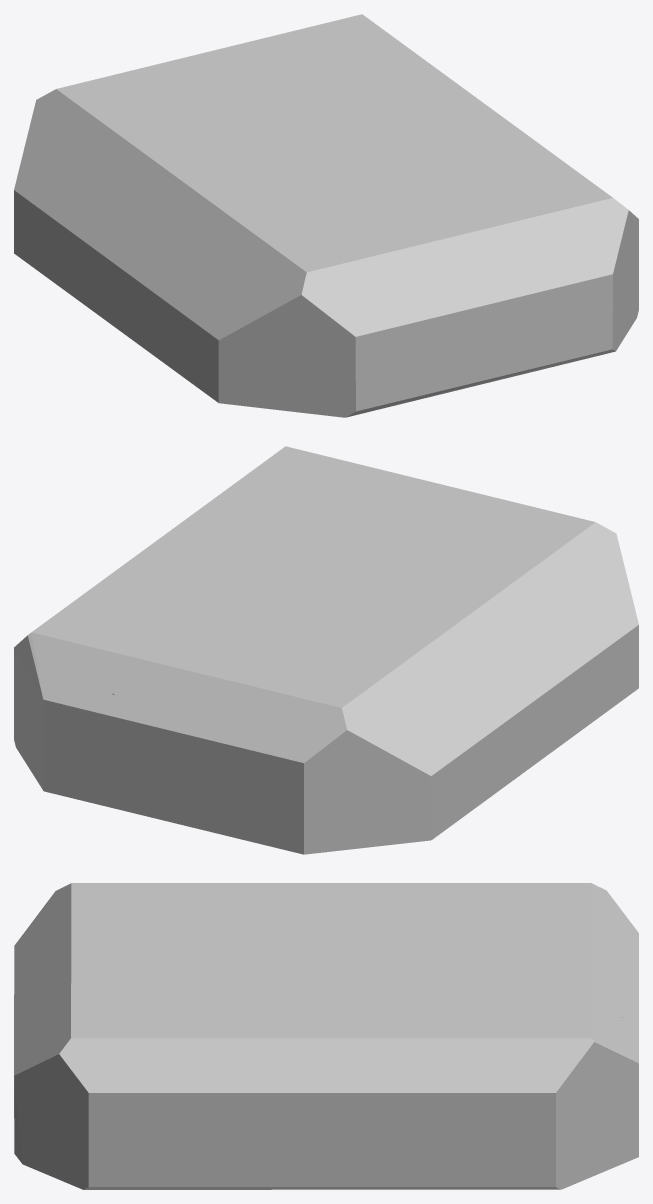
Rendered from SM_Cobble_A.fbx.
3 renders of one model, top to bottom at view 1: azimuth 30°, elevation 25°; view 2: azimuth 150°, elevation 25°; view 3: azimuth 270°, elevation 25°, orthographic. The views are drawn at different scales.
Parts seen in each view (by area): view 1: SM_Cobble_A_ConvexHulls; view 2: SM_Cobble_A_ConvexHulls; view 3: SM_Cobble_A_ConvexHulls.
Boxes of the visible parts, bbox=[...] form: SM_Cobble_A_ConvexHulls: bbox=[14, 14, 638, 417]; SM_Cobble_A_ConvexHulls: bbox=[14, 446, 638, 854]; SM_Cobble_A_ConvexHulls: bbox=[14, 883, 638, 1189].
Size of the model in its own units: 66.8 by 85.84 by 20.7.
